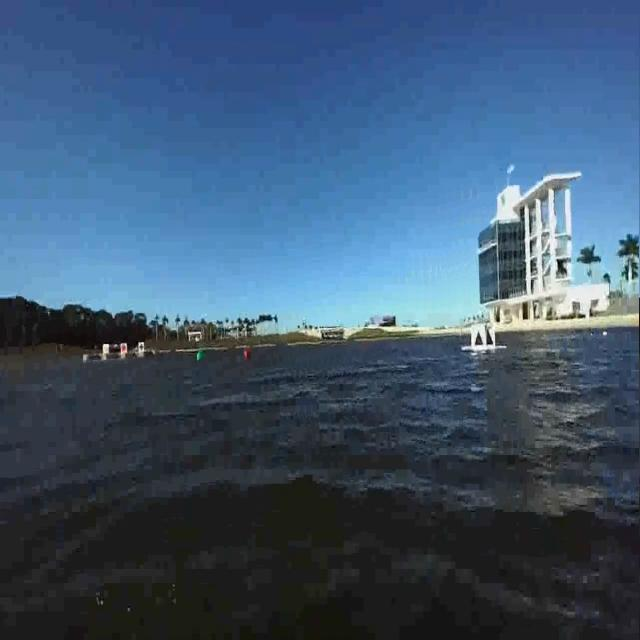green-buoy: (195, 343, 207, 363)
red-buoy: (243, 344, 252, 367)
